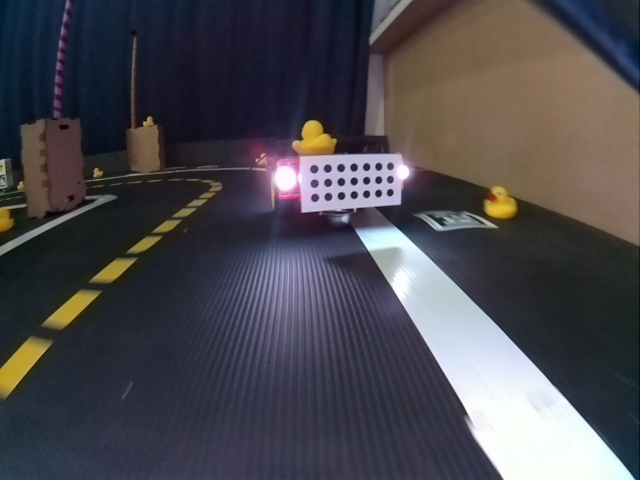Duckie: (293, 122, 337, 154), (486, 186, 516, 217), (0, 209, 13, 231), (255, 153, 264, 165), (93, 168, 102, 177), (143, 117, 151, 127)
Duckiebot: (268, 149, 405, 227)
QR code: (415, 211, 495, 231)
